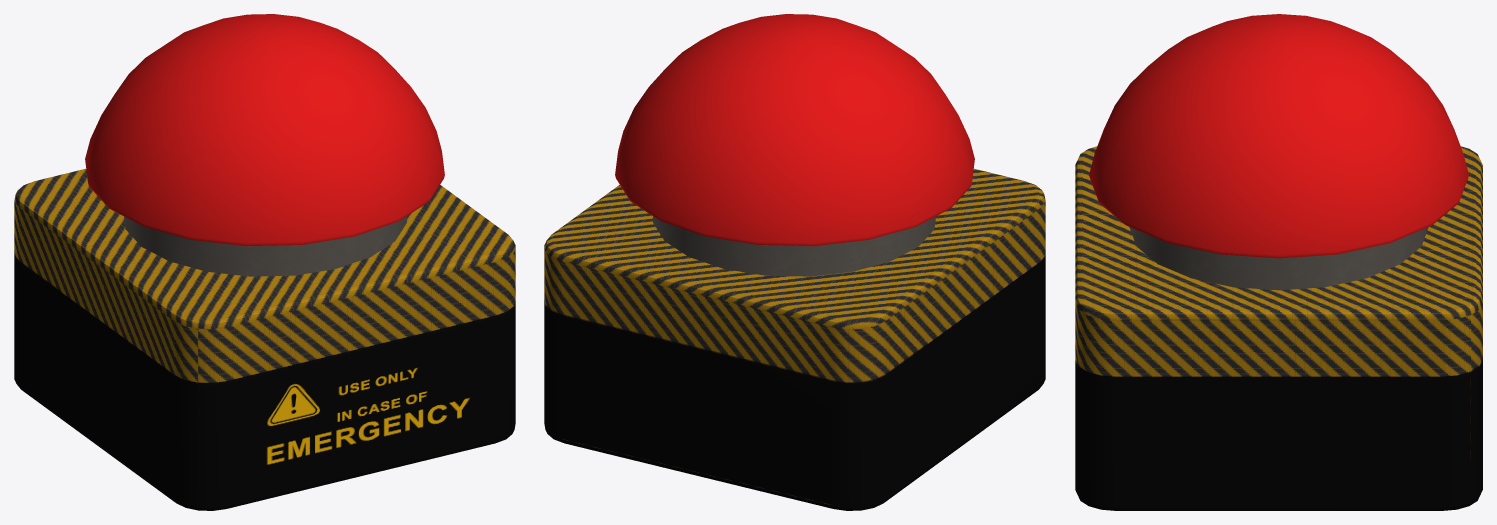
The model's file is big_red_button.fbx.
3 views of the same model, side by side, from view 1: azimuth 30°, elevation 25°; view 2: azimuth 150°, elevation 25°; view 3: azimuth 270°, elevation 25° (orthographic). The views are drawn at different scales.
Visible parts, largest first — view 1: pCube1, pSphere1, pPlane1; view 2: pCube1, pSphere1; view 3: pCube1, pSphere1.
Boxes of the visible parts, x1,y1,x2,y2 form: pCube1: [14, 168, 515, 510]; pSphere1: [85, 14, 444, 276]; pPlane1: [246, 331, 479, 491]; pCube1: [544, 168, 1045, 510]; pSphere1: [615, 14, 974, 276]; pCube1: [1075, 146, 1482, 510]; pSphere1: [1089, 14, 1468, 290].
Size of the model in its own units: 106 by 113 by 106.
